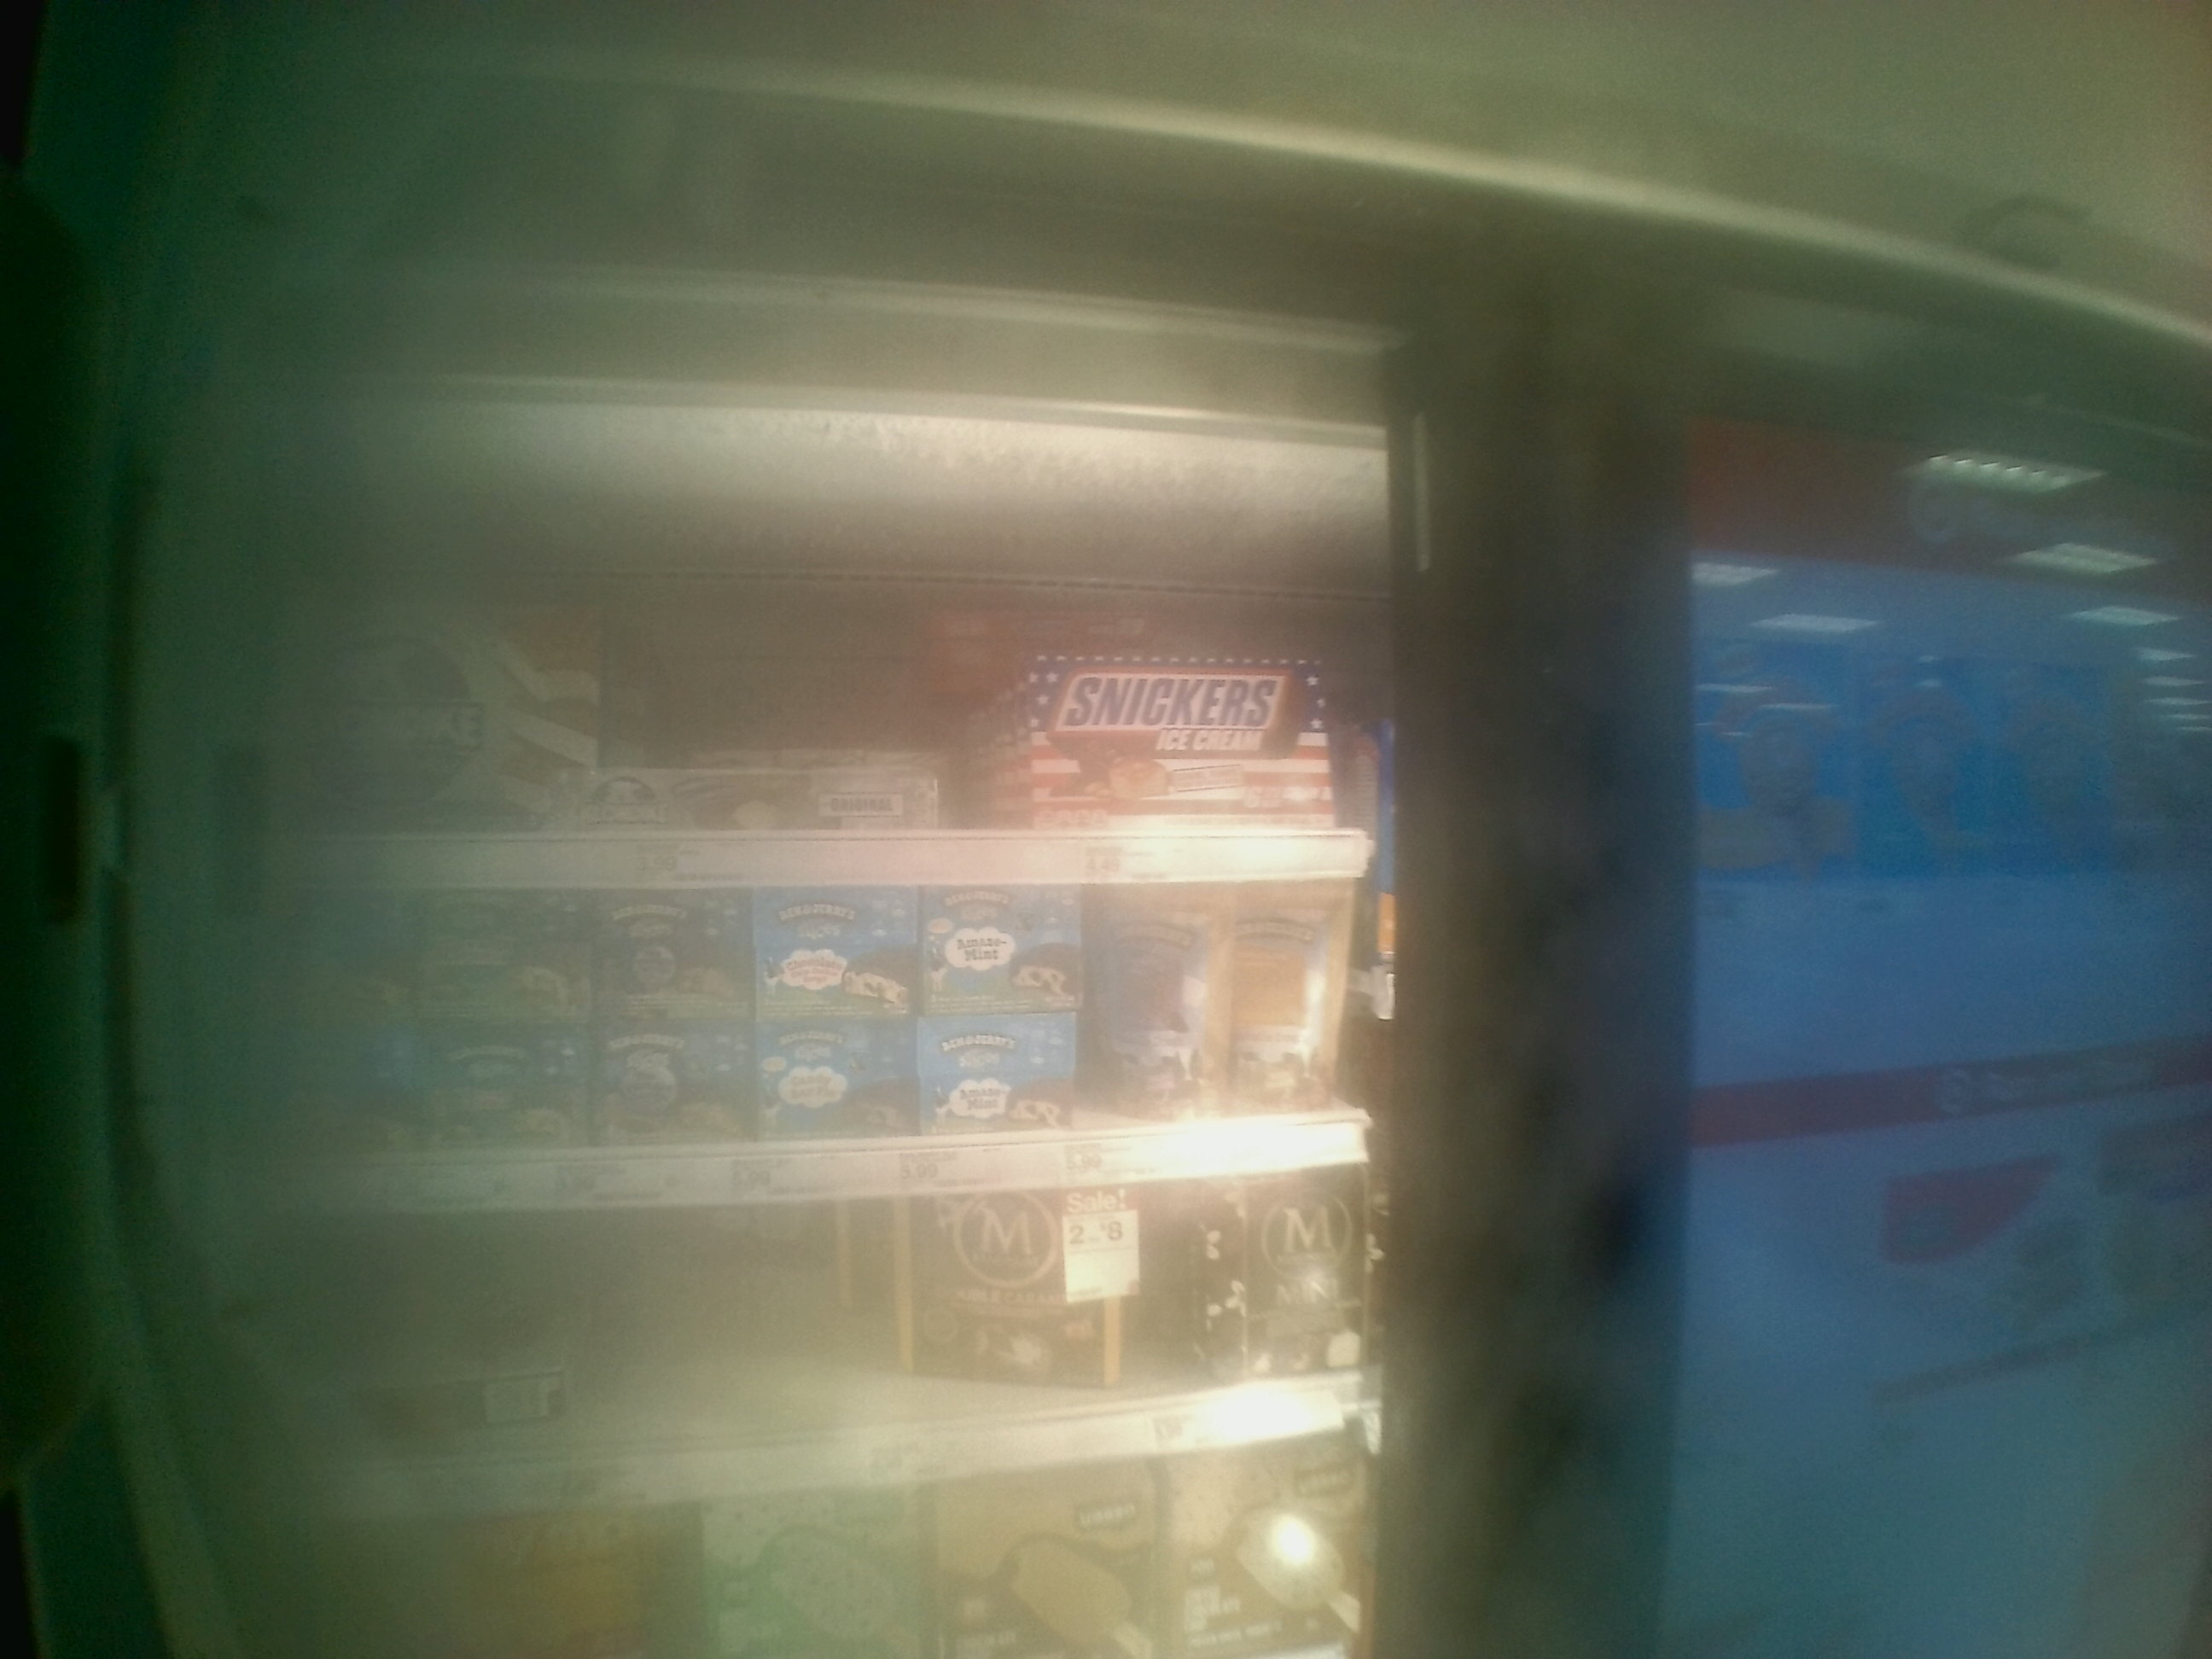shelf: (256, 882, 1385, 1220)
